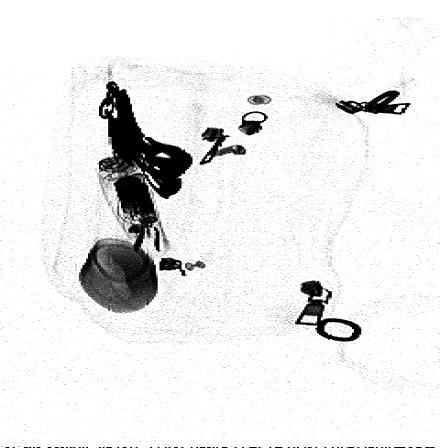HandCuffs: (97, 81, 194, 200)
